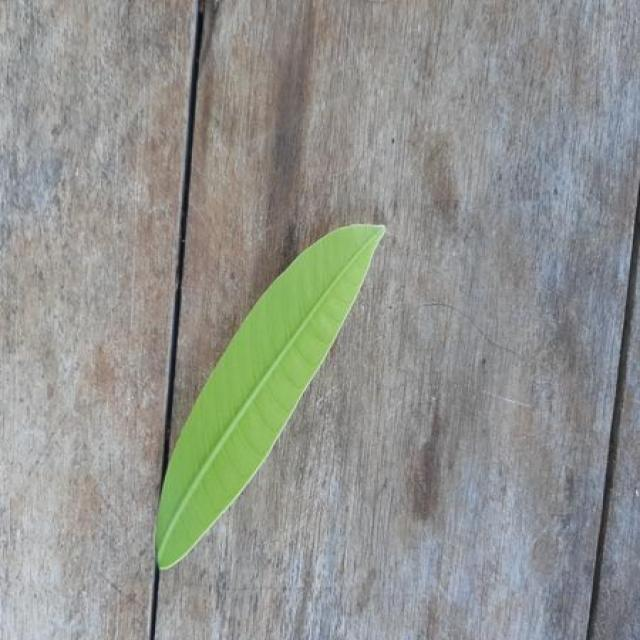mango: (155, 225, 385, 569)
